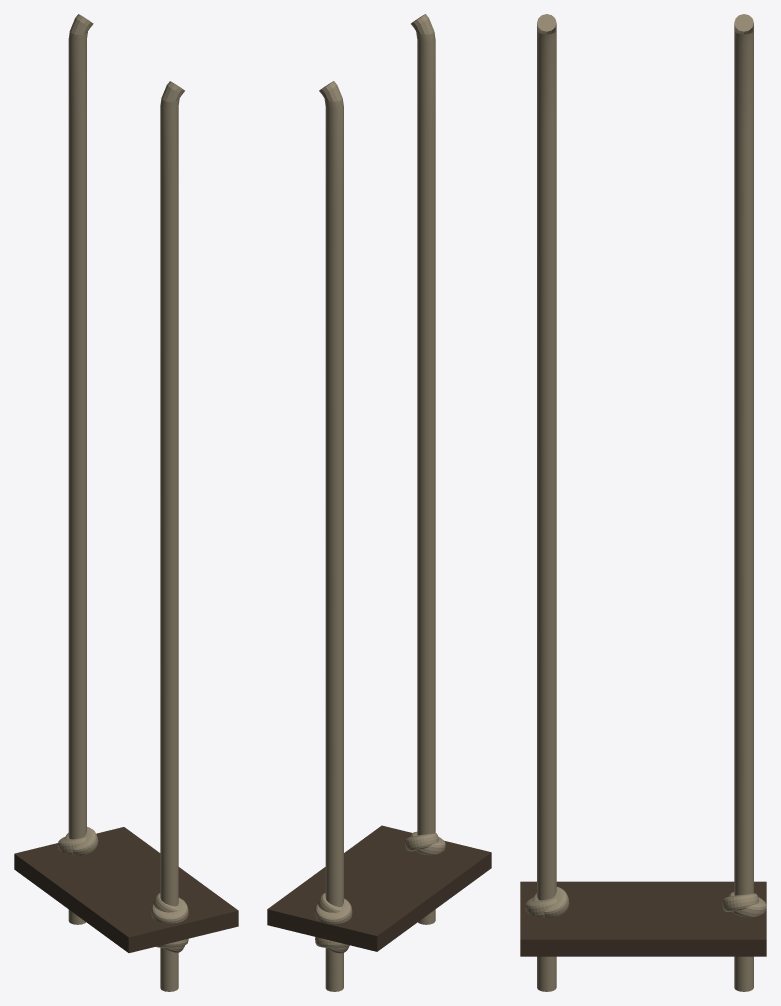
File: Hub_RopeSwing.fbx
3 views of the same model, side by side, from view 1: azimuth 30°, elevation 25°; view 2: azimuth 150°, elevation 25°; view 3: azimuth 270°, elevation 25° (orthographic). The views are drawn at different scales.
Parts seen in each view (by area): view 1: Hub_RopeSwing; view 2: Hub_RopeSwing; view 3: Hub_RopeSwing.
Part boxes in pixels (box(x1,y1,x2,y2)): Hub_RopeSwing: box(14, 14, 238, 991); Hub_RopeSwing: box(267, 14, 491, 991); Hub_RopeSwing: box(520, 14, 766, 991).
Size of the model in its own units: 0.5 by 0.2771 by 2.18.
